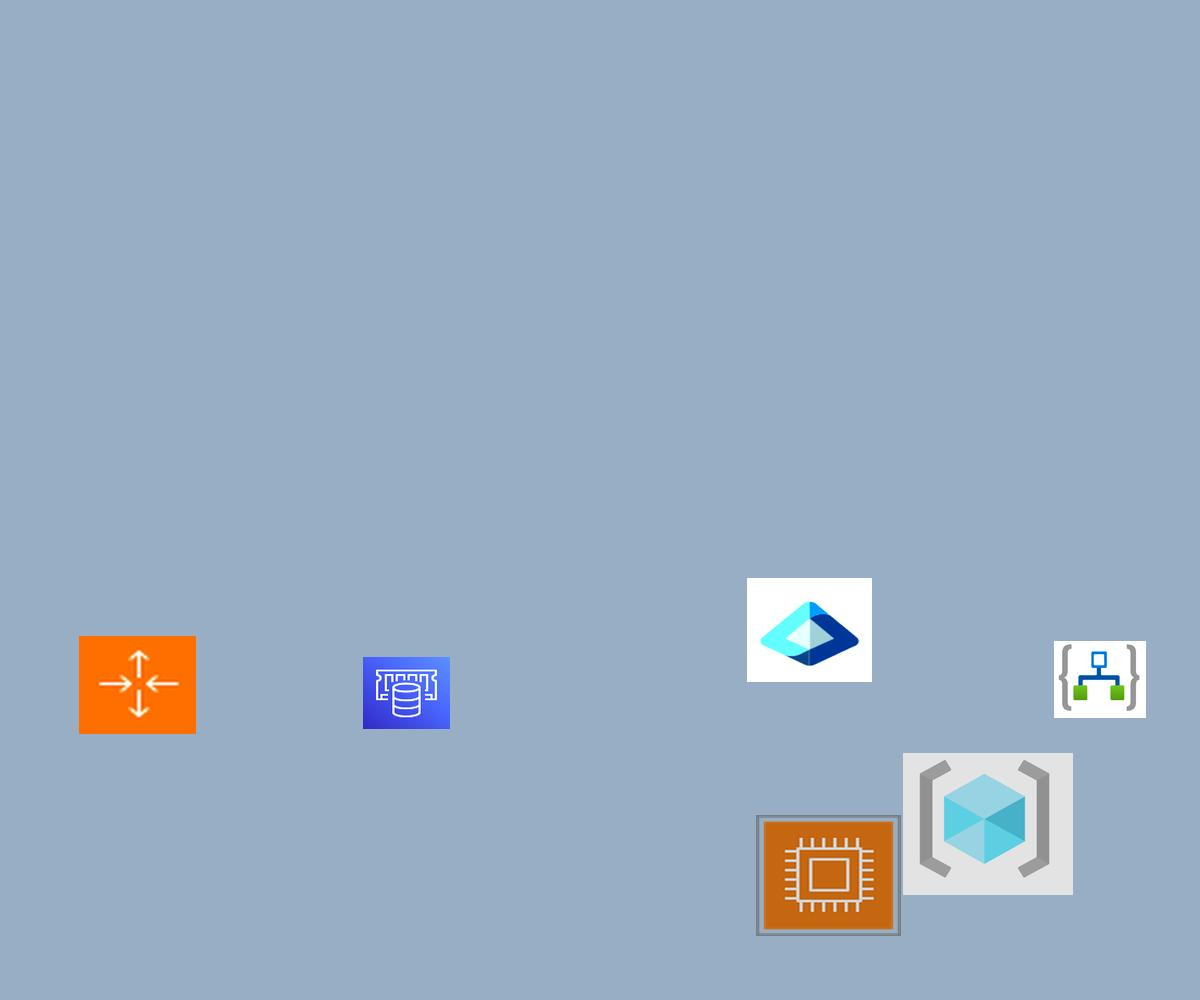AWS-Category_Compute: (756, 815, 901, 936)
AWS-ElastiCache: (363, 657, 450, 729)
AWS-Scaling-group: (79, 636, 196, 734)
Azure_integration-204-Logic-Apps: (1054, 641, 1146, 718)
Azure_microsoft_entra: (747, 578, 872, 682)
Azure_resource_group: (903, 753, 1073, 895)
